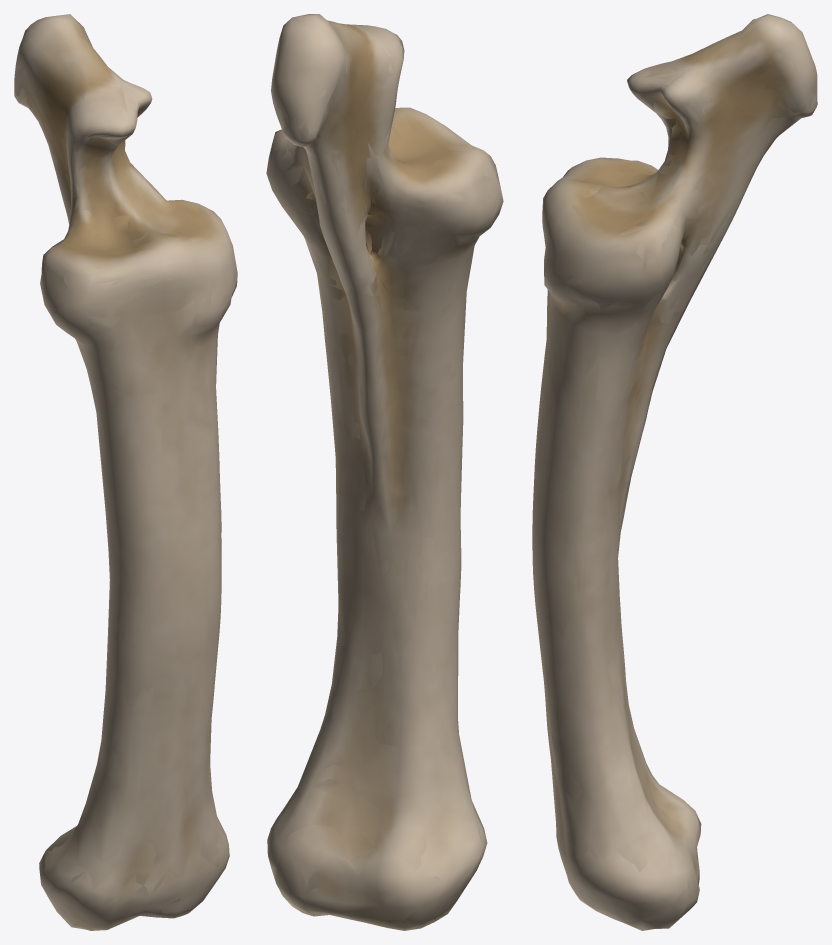
The model's file is R Ulna Radius.fbx.
3 renders of one model, left to right at view 1: azimuth 30°, elevation 25°; view 2: azimuth 150°, elevation 25°; view 3: azimuth 270°, elevation 25°, orthographic. The views are drawn at different scales.
Visible parts, largest first — view 1: R Ulna Radius, R Ulna Radius low; view 2: R Ulna Radius low, R Ulna Radius; view 3: R Ulna Radius, R Ulna Radius low.
Boxes of the visible parts, x1=… form: R Ulna Radius: x1=14, y1=14, x2=237, y2=930; R Ulna Radius low: x1=14, y1=14, x2=237, y2=930; R Ulna Radius low: x1=266, y1=16, x2=503, y2=929; R Ulna Radius: x1=266, y1=14, x2=503, y2=930; R Ulna Radius: x1=532, y1=14, x2=817, y2=930; R Ulna Radius low: x1=533, y1=16, x2=817, y2=930.
Size of the model in its own units: 9.55 by 42.27 by 12.38.
Materials: 1 (1 with a texture image).
